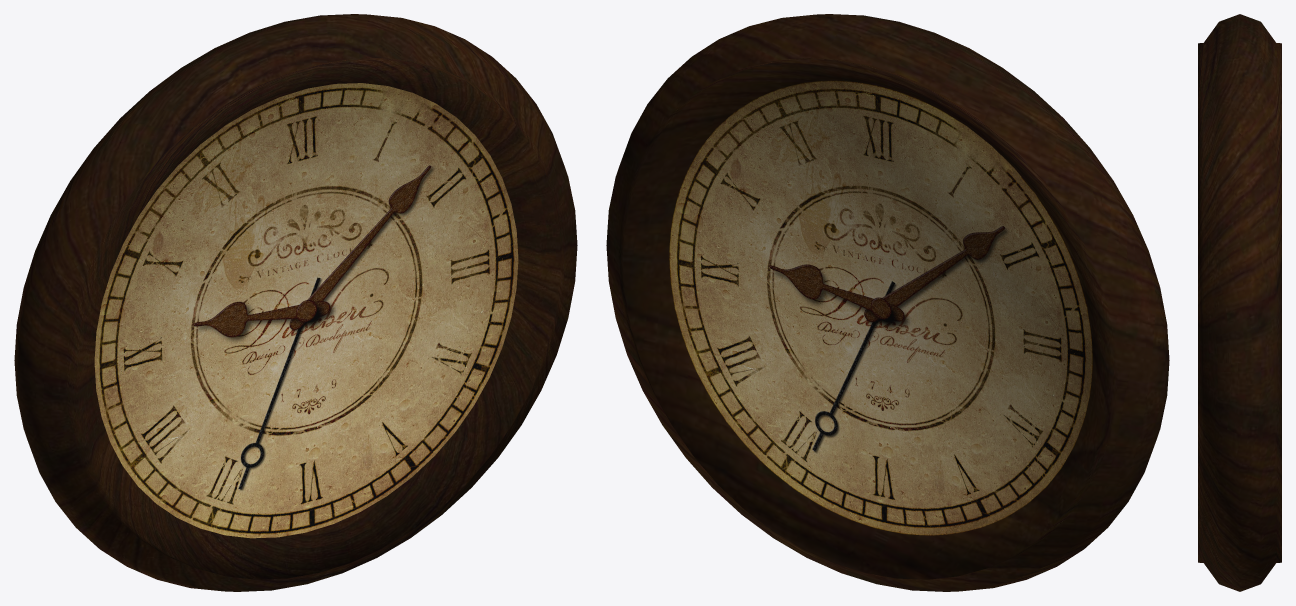
File: Time.obj
The picture shows the model from 3 angles, left to right: view 1: azimuth 30°, elevation 25°; view 2: azimuth 150°, elevation 25°; view 3: azimuth 270°, elevation 25°; orthographic projection. The views are drawn at different scales.
Visible parts, largest first — view 1: Sphere; view 2: Sphere; view 3: Sphere.
Boxes of the visible parts, x1,y1,x2,y2 form: Sphere: [14, 14, 577, 591]; Sphere: [606, 14, 1169, 591]; Sphere: [1198, 14, 1281, 591].
Bounding box in the file's own units: 2.29 × 2.21 × 0.3229.
Materials: 2 (2 with a texture image).
